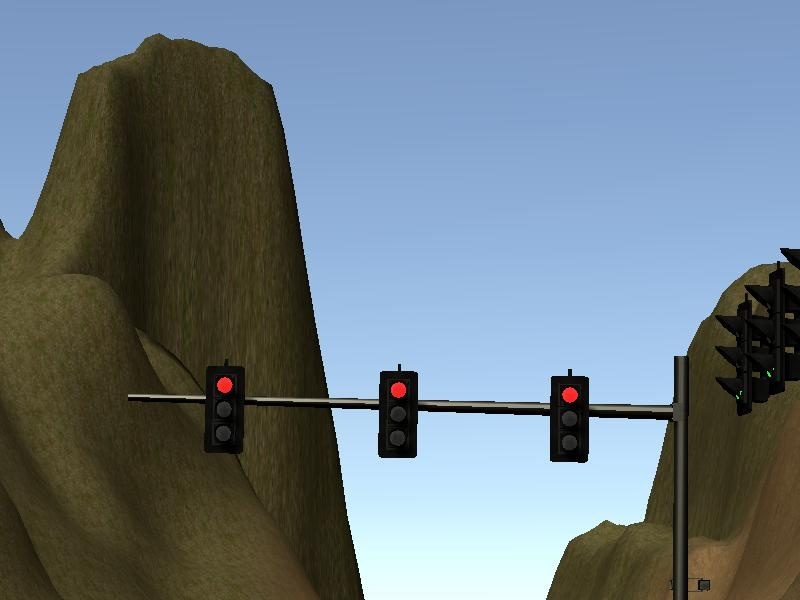red: (202, 364, 247, 455), (376, 369, 419, 459), (548, 373, 590, 464)
